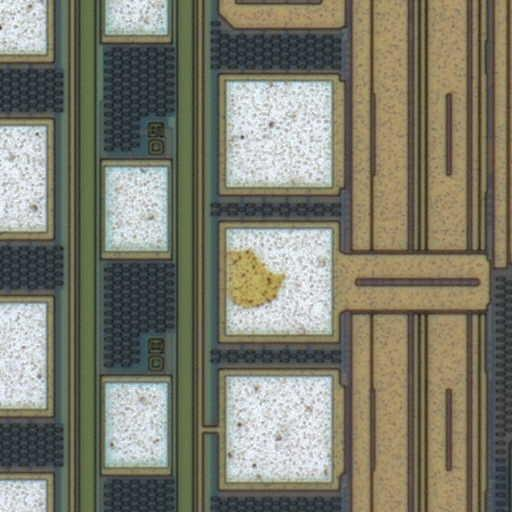BLOCK ETCH: (215, 240, 293, 314)
